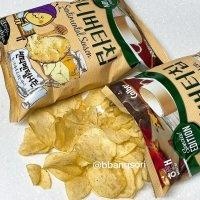snack: (0, 0, 171, 123)
